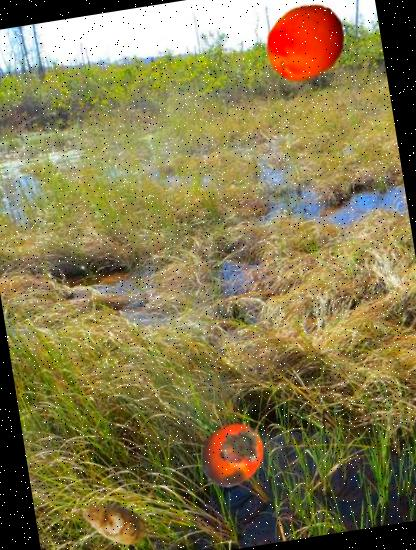Apricot: (258, 0, 355, 91)
Ginger: (76, 484, 153, 550)
Kaki: (192, 414, 272, 495)
